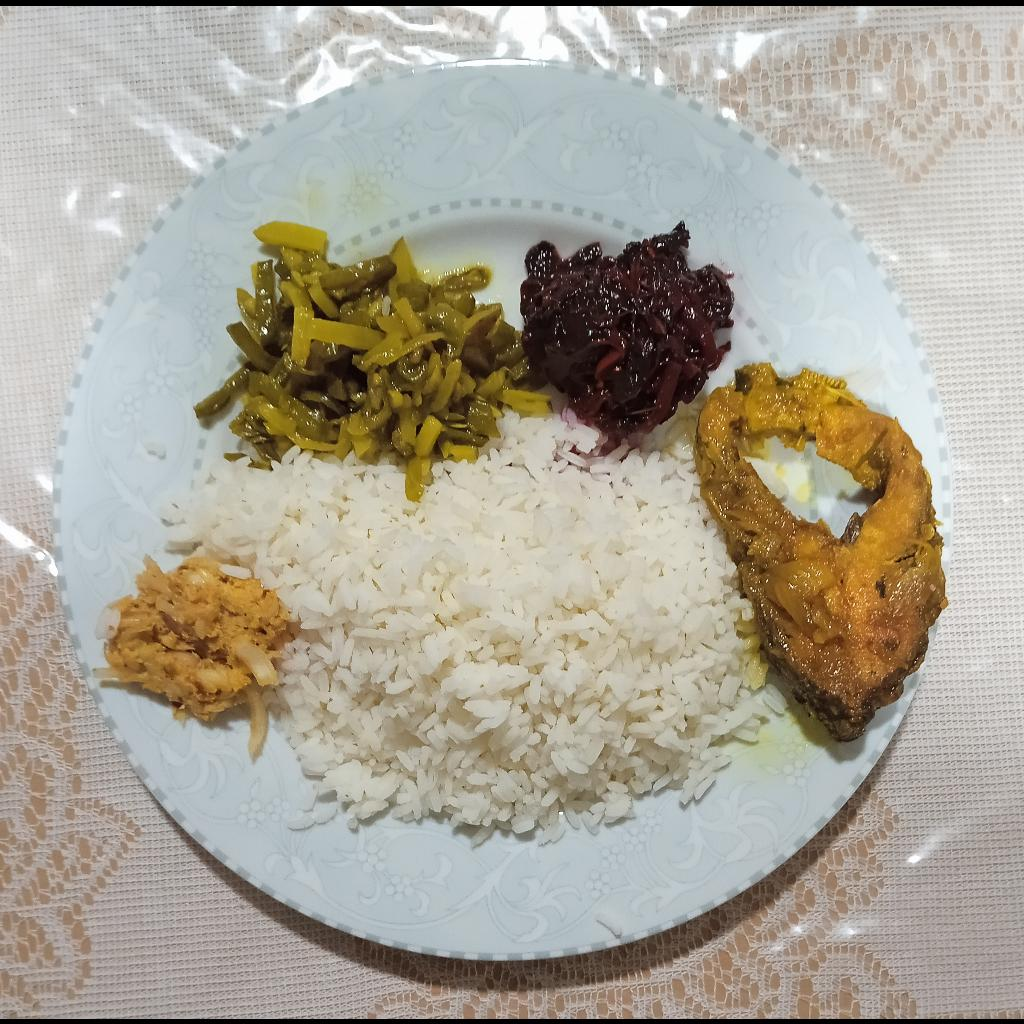fish: (692, 360, 948, 739)
potato-mashed: (94, 554, 289, 761)
rice: (156, 415, 783, 840)
shak: (522, 219, 735, 441)
vegetable: (193, 220, 553, 498)
